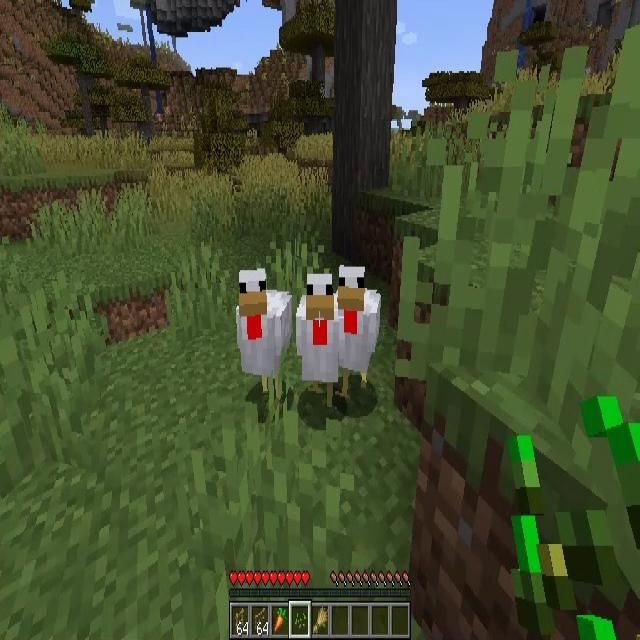duck: (235, 269, 292, 415), (296, 272, 337, 418), (338, 268, 382, 403)
